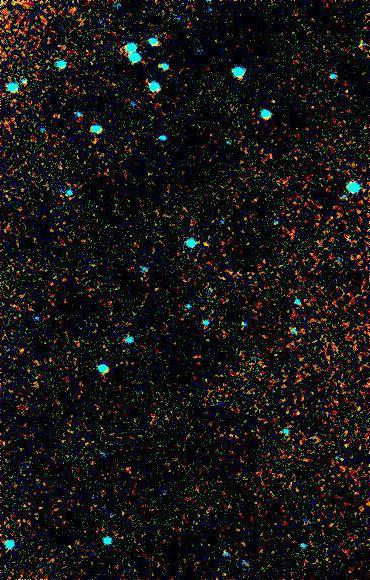star: (193, 228, 223, 258)
